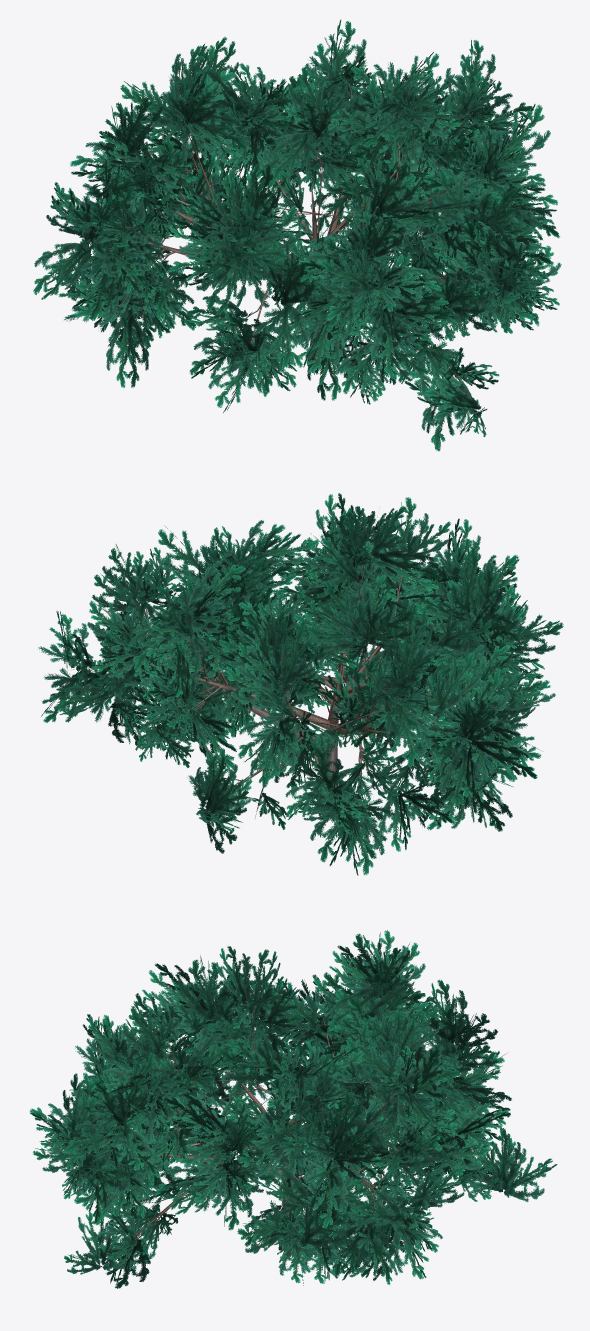
File: MiniTree.fbx
3 views of the same model, one above another, from view 1: azimuth 30°, elevation 25°; view 2: azimuth 150°, elevation 25°; view 3: azimuth 270°, elevation 25° (orthographic). The views are drawn at different scales.
Visible parts, largest first — view 1: Tree EZTree1.Bush006; view 2: Tree EZTree1.Bush006; view 3: Tree EZTree1.Bush006.
Part boxes in pixels (x1,y1,x2,y2): Tree EZTree1.Bush006: [33, 19, 561, 451]; Tree EZTree1.Bush006: [37, 493, 563, 875]; Tree EZTree1.Bush006: [29, 930, 557, 1288].
Size of the model in its own units: 4.85 by 4.59 by 3.05.
2 materials, 2 textured.
